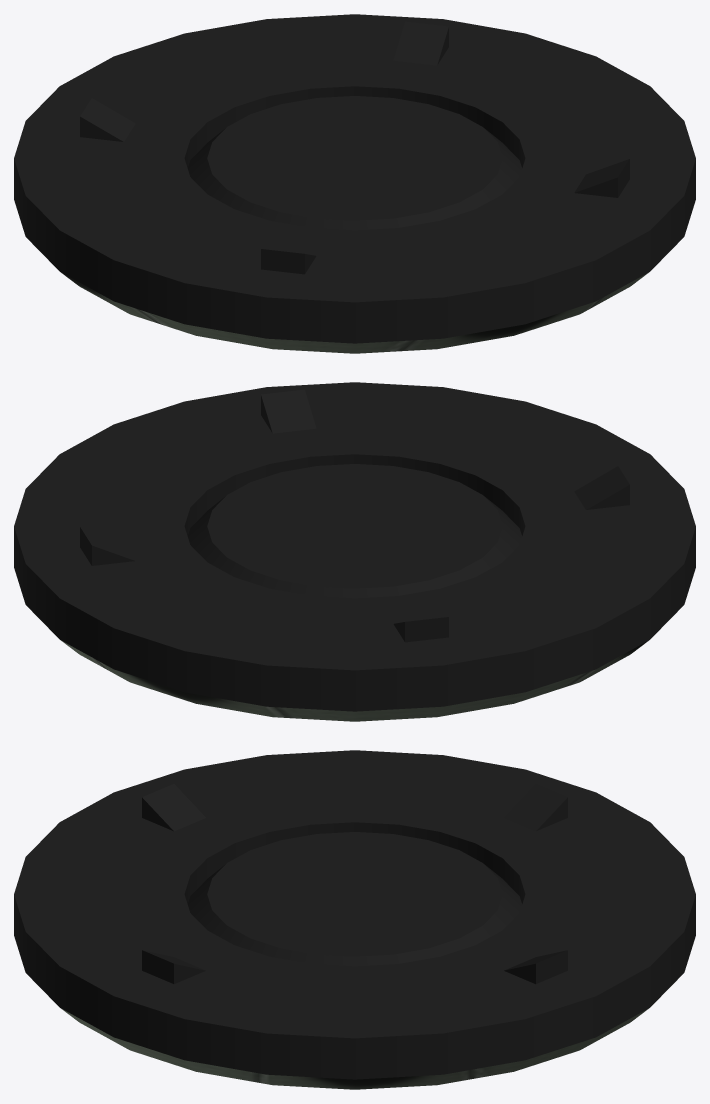
File: Virgo_DockingMechanism_2.obj
3 views of the same model, one above another, from view 1: azimuth 30°, elevation 25°; view 2: azimuth 150°, elevation 25°; view 3: azimuth 270°, elevation 25° (orthographic).
Visible parts, largest first — view 1: Virgo_DockingMechanism_2; view 2: Virgo_DockingMechanism_2; view 3: Virgo_DockingMechanism_2.
Boxes of the visible parts, <box> form: Virgo_DockingMechanism_2: <box>14,14,695,353</box>; Virgo_DockingMechanism_2: <box>14,382,695,721</box>; Virgo_DockingMechanism_2: <box>14,750,695,1089</box>.
Size of the model in its own units: 0.9375 by 0.1238 by 0.9375.
